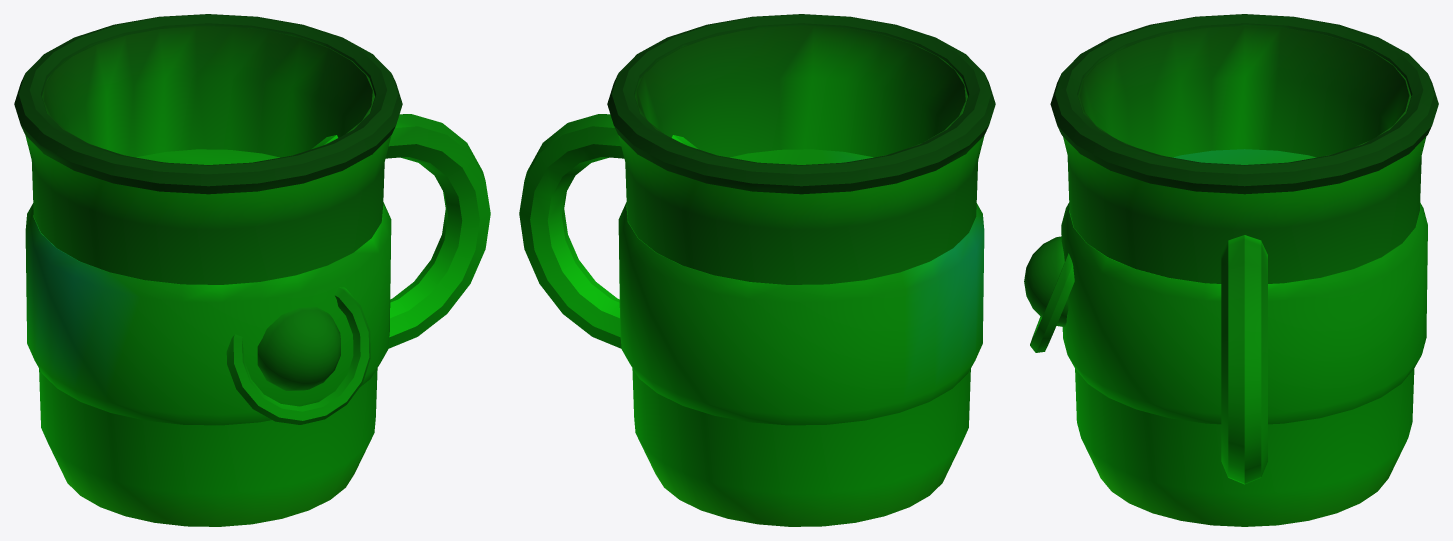
Rendered from hero_keepsake_mug.glb.
The picture shows the model from 3 angles, left to right: view 1: azimuth 30°, elevation 25°; view 2: azimuth 150°, elevation 25°; view 3: azimuth 270°, elevation 25°; orthographic projection.
Parts seen in each view (by area): view 1: HeroKeepsakeMug; view 2: HeroKeepsakeMug; view 3: HeroKeepsakeMug.
Boxes of the visible parts, x1,y1,x2,y2 form: HeroKeepsakeMug: [14, 14, 490, 526]; HeroKeepsakeMug: [519, 14, 995, 526]; HeroKeepsakeMug: [1024, 14, 1438, 526].
Size of the model in its own units: 0.333 by 0.266 by 0.267.
